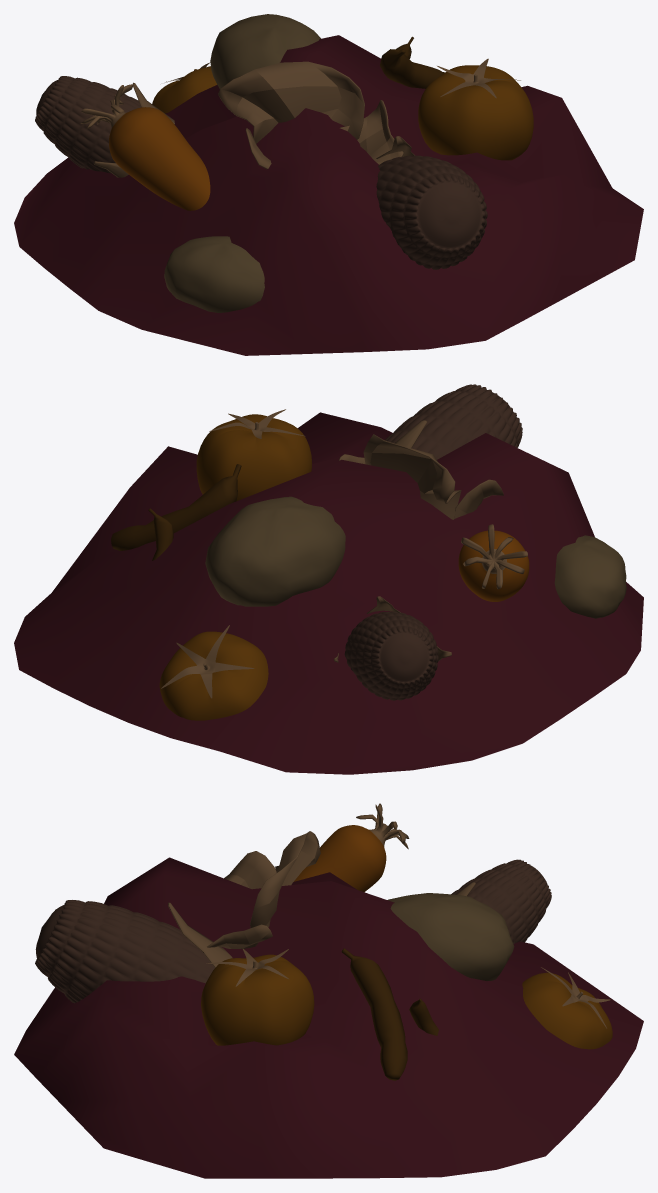
Rendered from WastePile.fbx.
The picture shows the model from 3 angles, top to bottom: view 1: azimuth 30°, elevation 25°; view 2: azimuth 150°, elevation 25°; view 3: azimuth 270°, elevation 25°; orthographic projection. The views are drawn at different scales.
Visible parts, largest first — view 1: Plane, Sphere.002, Cabbage.009, tomato.leaf.007, Sphere.001, Sphere.004, Sphere.003, Sphere, tomato.leaf.001, Cube.002; view 2: Plane, Sphere, tomato.leaf.001, tomato.leaf.007, Sphere.004, Sphere.002, Sphere.003, Cabbage.009, Sphere.001, Cube.002, Cube.001; view 3: Plane, Sphere.002, tomato.leaf.007, Sphere, Cabbage.009, tomato.leaf.001, Sphere.004, Sphere.001, Cube.002, Cube.001.
Boxes of the visible parts, x1,y1,x2,y2 form: Plane: (14, 35, 643, 355); Sphere.002: (376, 136, 487, 269); Cabbage.009: (218, 61, 403, 169); tomato.leaf.007: (418, 58, 533, 160); Sphere.001: (80, 84, 210, 210); Sphere.004: (35, 76, 174, 177); Sphere.003: (164, 236, 264, 312); Sphere: (210, 14, 320, 88); tomato.leaf.001: (152, 62, 216, 113); Cube.002: (380, 49, 444, 88); Plane: (14, 412, 643, 774); Sphere: (205, 496, 345, 606); tomato.leaf.001: (159, 625, 268, 720); tomato.leaf.007: (196, 409, 312, 501); Sphere.004: (334, 596, 451, 700); Sphere.002: (385, 384, 522, 459); Sphere.003: (554, 535, 626, 618); Cabbage.009: (338, 434, 503, 519); Sphere.001: (458, 524, 529, 601); Cube.002: (111, 464, 241, 550); Cube.001: (148, 508, 173, 560); Plane: (14, 857, 643, 1178); Sphere.002: (35, 900, 232, 1003); tomato.leaf.007: (201, 948, 314, 1045); Sphere: (387, 893, 514, 980); Cabbage.009: (207, 831, 320, 949); tomato.leaf.001: (522, 967, 612, 1049); Sphere.004: (451, 859, 551, 943); Sphere.001: (294, 803, 409, 892); Cube.002: (341, 948, 407, 1080); Cube.001: (409, 998, 438, 1035).
Size of the model in its own units: 458 by 178 by 493.
